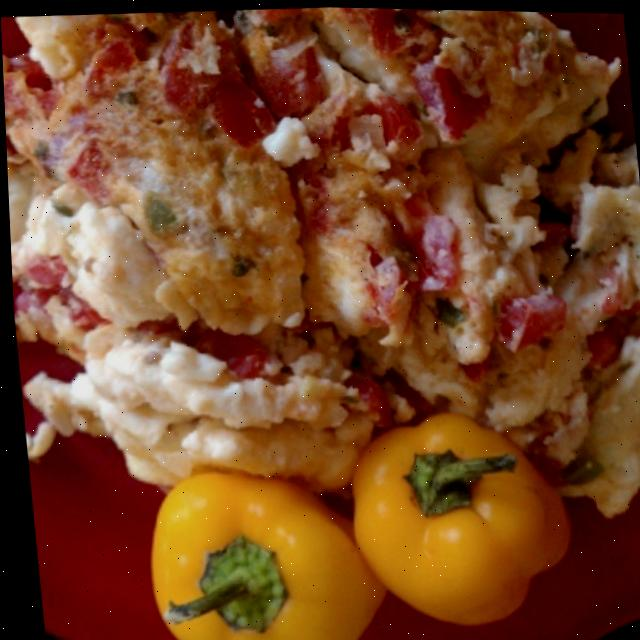鸡蛋料理: (0, 0, 640, 513)
